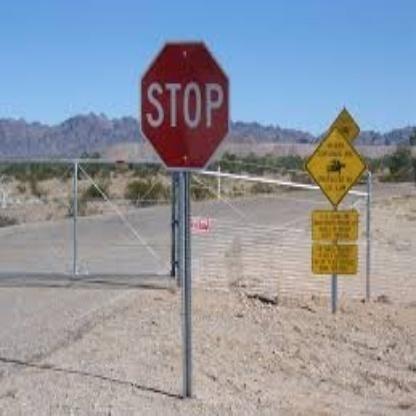stop: (139, 42, 230, 171)
